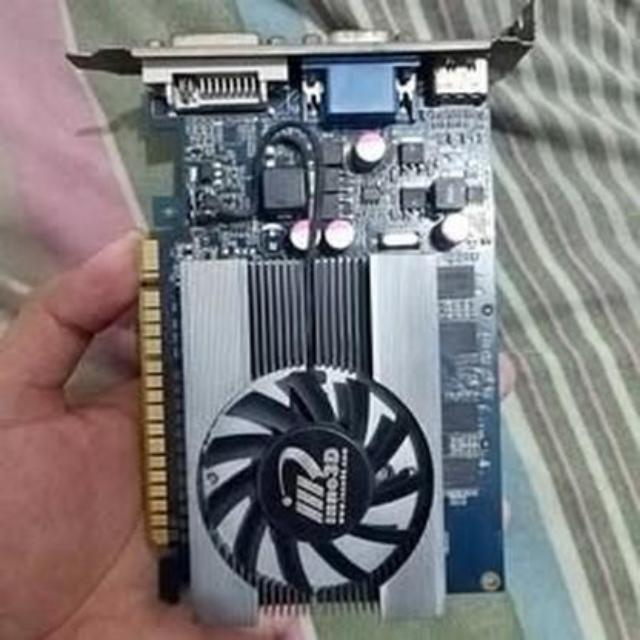GPU: (138, 17, 513, 614)
